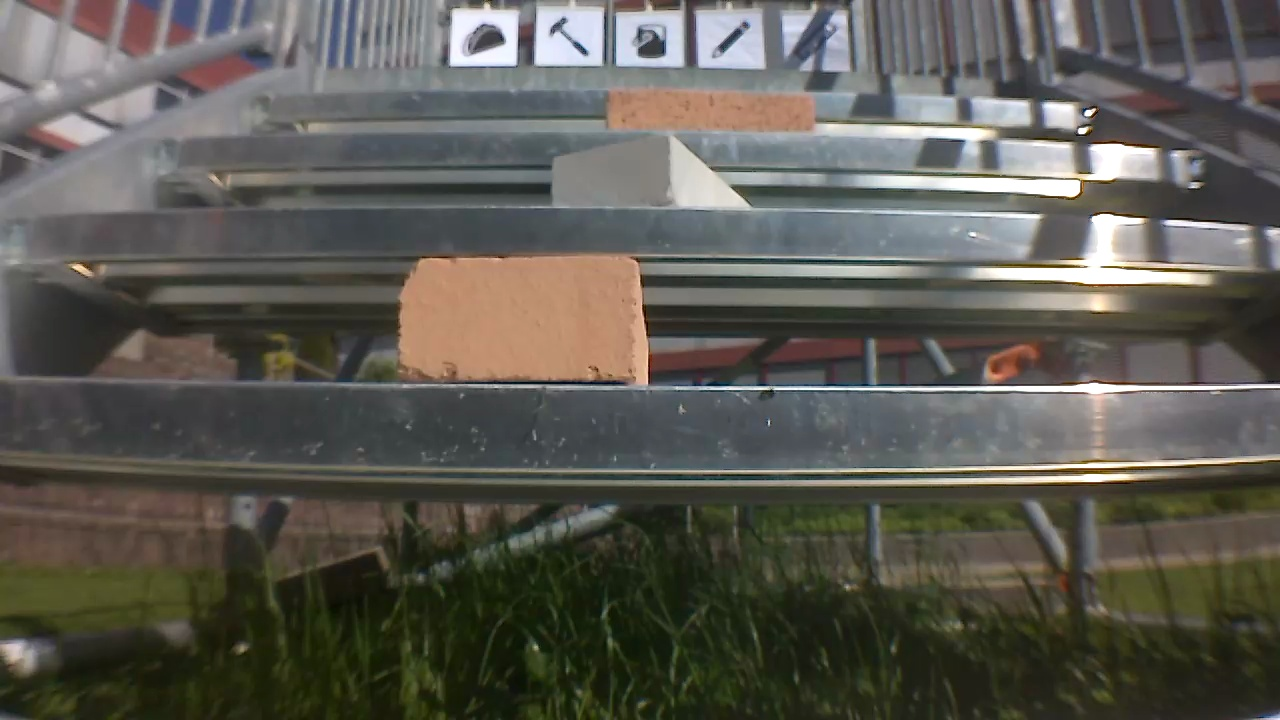brick: (391, 255, 647, 383), (545, 136, 762, 203), (607, 93, 813, 135)
edge: (4, 382, 1280, 462), (10, 195, 1280, 269), (120, 135, 1212, 181), (247, 95, 1109, 126), (295, 70, 1051, 102)
